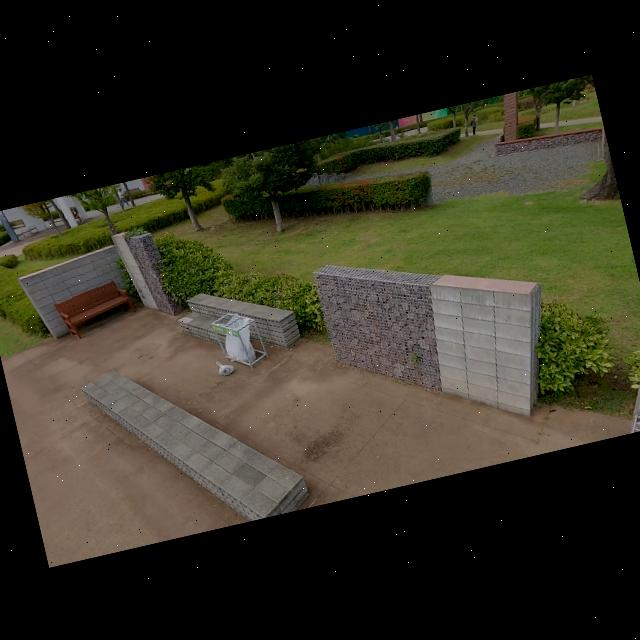trash: (214, 355, 236, 376)
